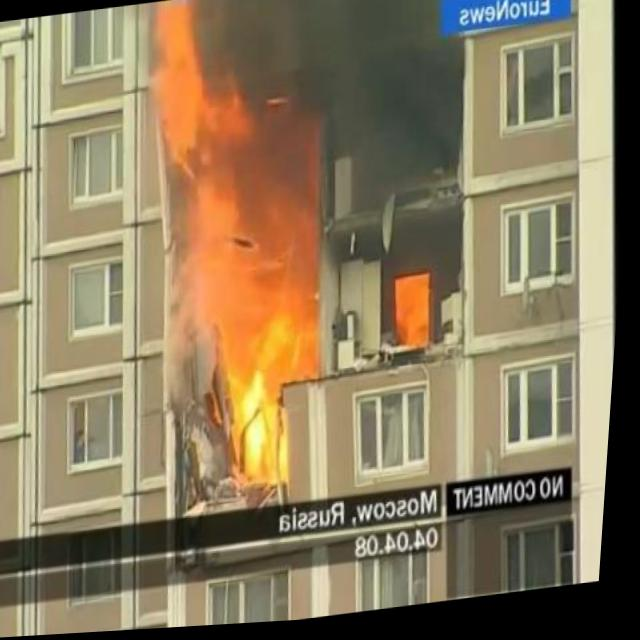fire: (155, 84, 347, 489), (145, 0, 209, 136), (392, 277, 436, 358)
